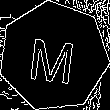M_N: (28, 29, 80, 84)
